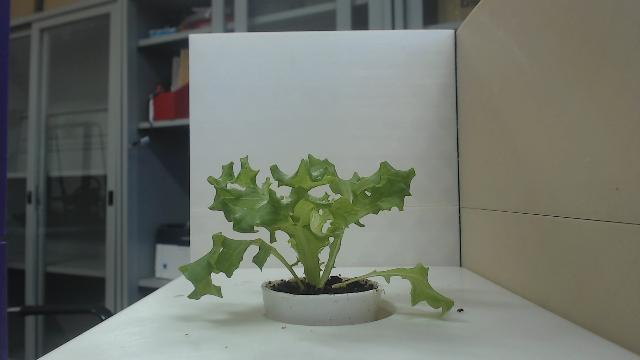Vegetative Stage: (178, 154, 456, 320)
